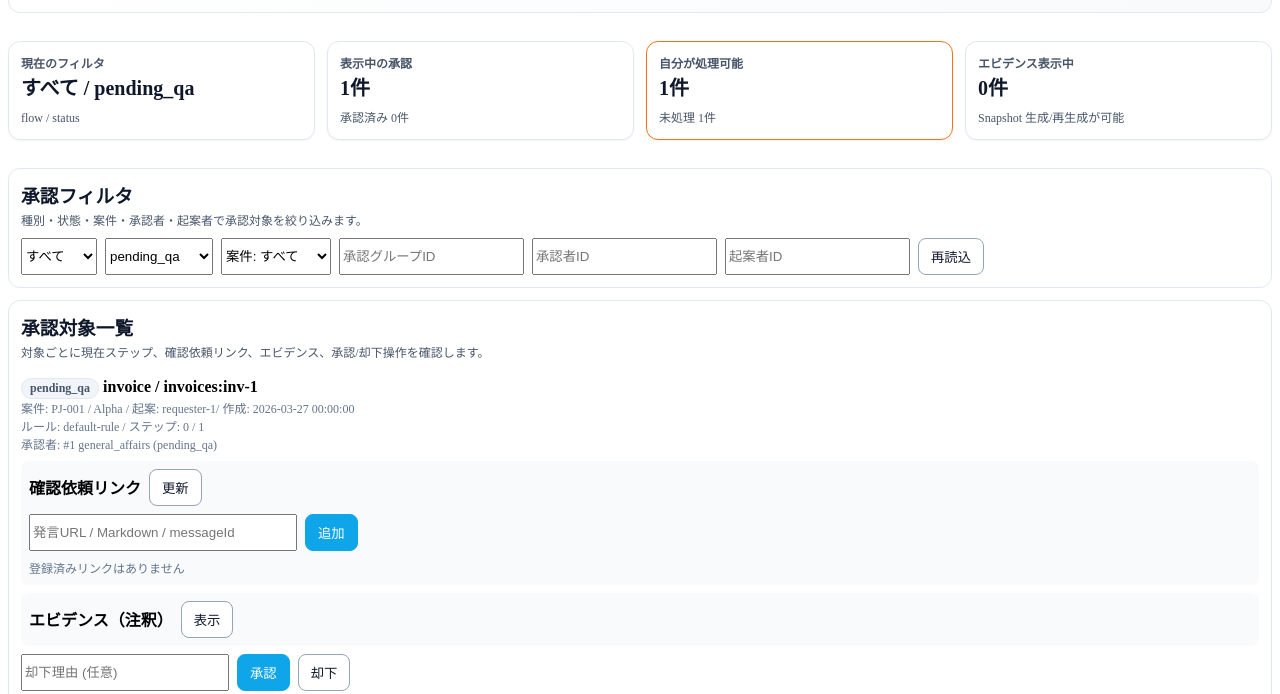
Scenario: Approvals › loads approvals with the default pending_qa filter and approves an actionable item
The image size is (1280, 694).
(page scrolled)
Expected: the text "pending_qa invoice / invoices:inv-1" is shown, top-left (21, 378), bottom-right (258, 399)
Expected: the element named "承認判断サマリー" is shown, top-left (8, 25), bottom-right (1272, 156)
Click the button "承認" at x=263, y=672, box top-left (237, 654), bottom-right (290, 691)
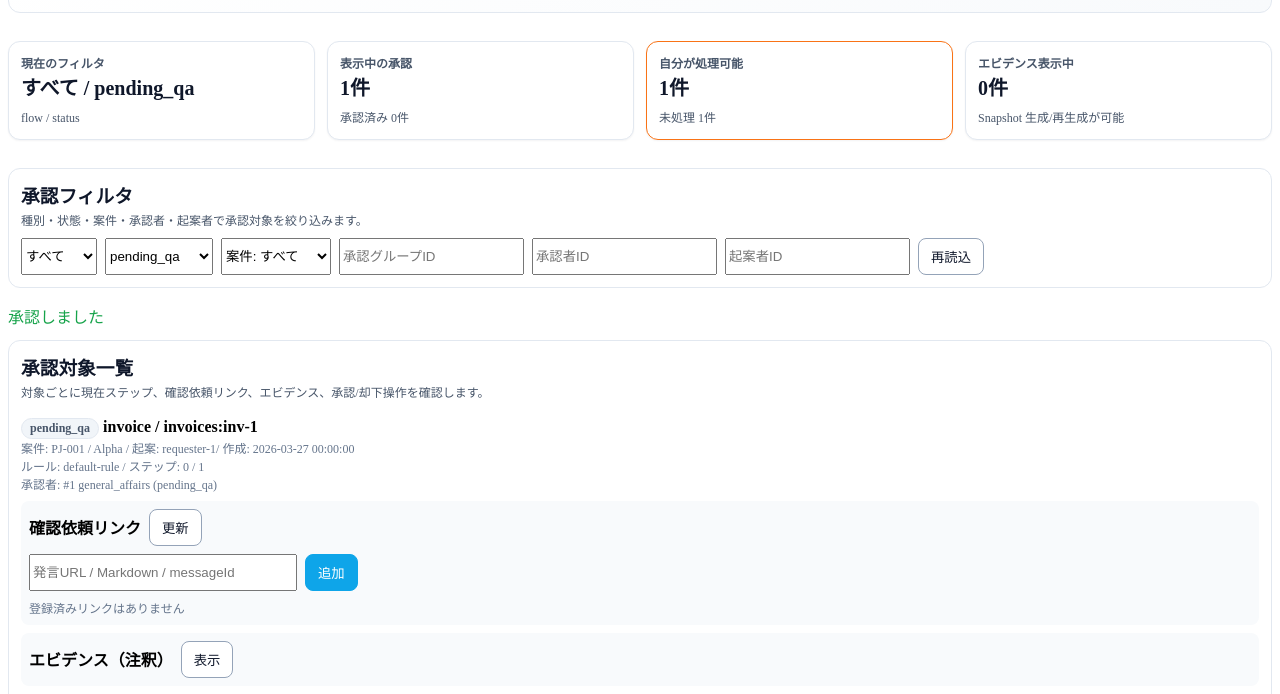
Now the text "承認しました" is shown, box top-left (8, 309), bottom-right (104, 326)
